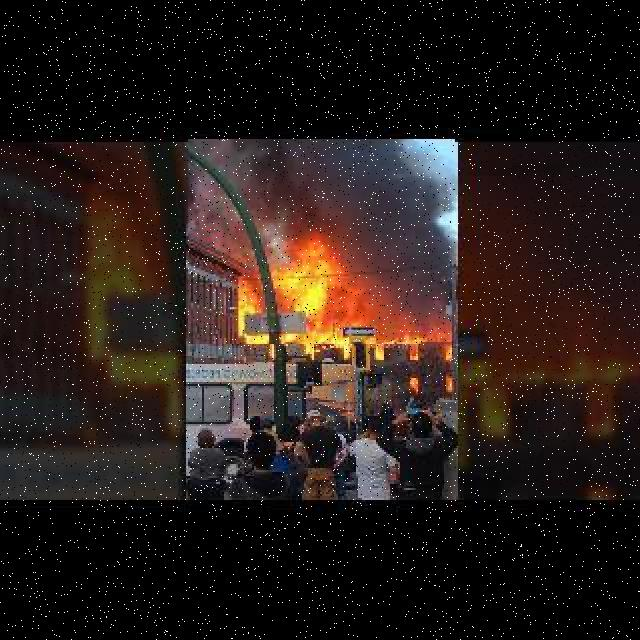fire: (188, 138, 455, 344)
